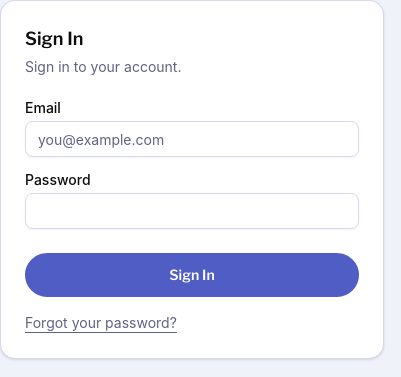
AuthPage › when signed out › switches to the reset password form when "Forgot your password?" is clicked
The image size is (401, 377).
Click the button "Forgot your password?": coordinates (101, 323) [25, 313, 177, 333]
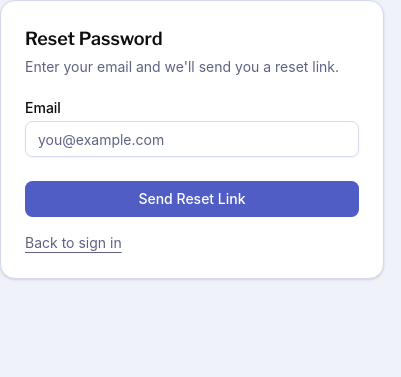
Now the heading "Reset Password" is shown, box [25, 28, 163, 49]
